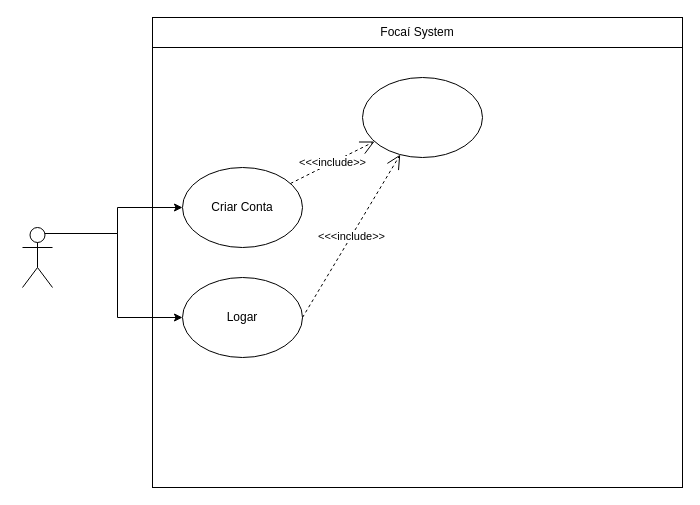
Some shapes in this 700 by 505 pixel diagram are drawn without their labels. The box of each missing label's shape, as (x1, y1, x2, y2) in pixels:
Usuário: (22, 226, 52, 288)
Validar Email e Dados: (362, 76, 482, 158)
